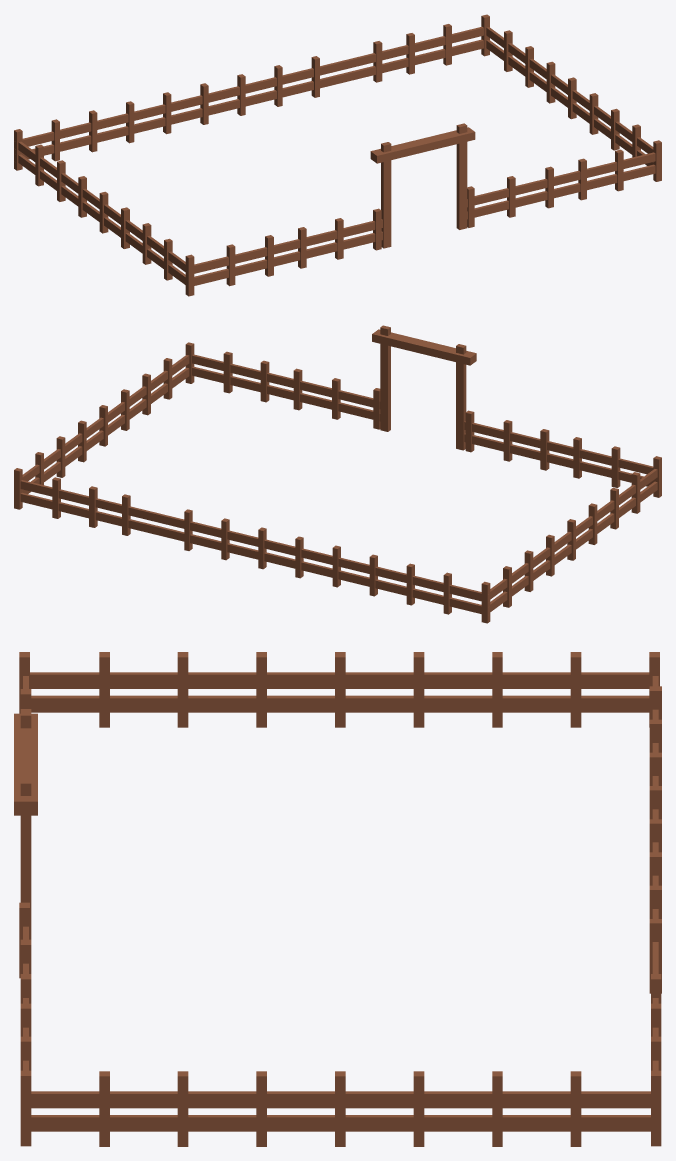
Rendered from zhongdian_01.FBX.
The picture shows the model from 3 angles, top to bottom: view 1: azimuth 30°, elevation 25°; view 2: azimuth 150°, elevation 25°; view 3: azimuth 270°, elevation 25°; orthographic projection. The views are drawn at different scales.
Visible parts, largest first — view 1: Box008; view 2: Box008; view 3: Box008.
Part boxes in pixels (x1,y1,x2,y2): Box008: (14,14,661,296); Box008: (14,325,661,623); Box008: (14,652,661,1146).
Bounding box in the file's own units: 296 × 61.29 × 191.
